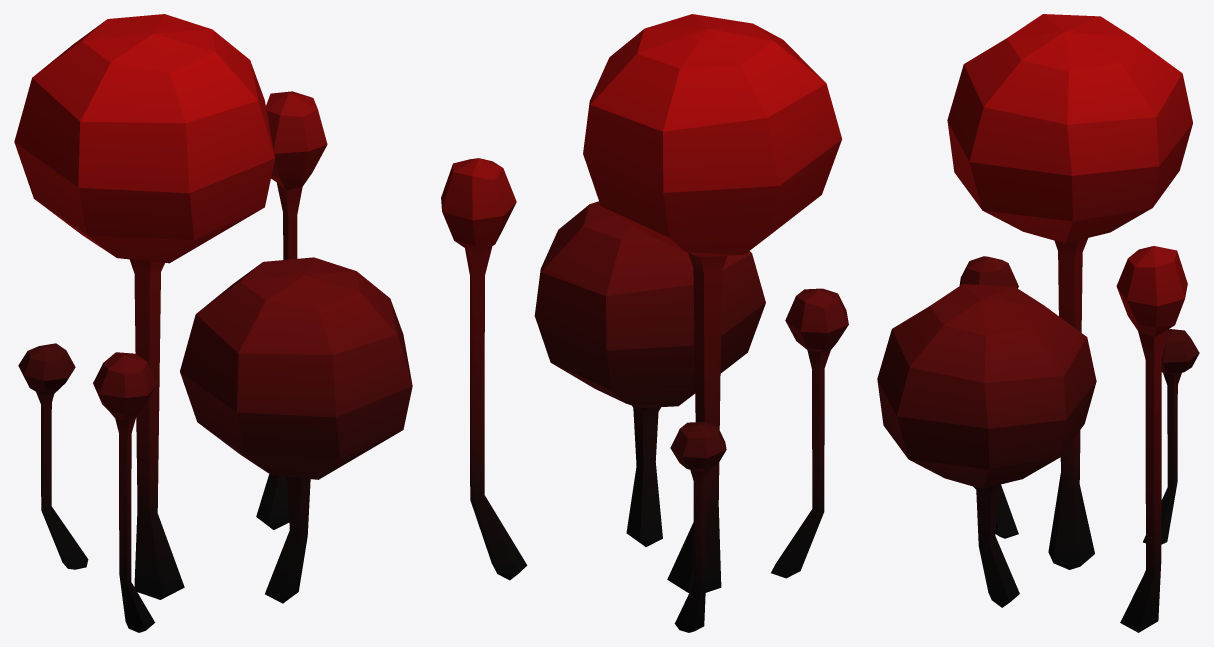
The model's file is SM_Env_Plant_Balloon_Group_01.fbx.
3 renders of one model, left to right at view 1: azimuth 30°, elevation 25°; view 2: azimuth 150°, elevation 25°; view 3: azimuth 270°, elevation 25°, orthographic. The views are drawn at different scales.
Visible parts, largest first — view 1: SM_Env_Plant_Balloon_Group_01; view 2: SM_Env_Plant_Balloon_Group_01; view 3: SM_Env_Plant_Balloon_Group_01.
Boxes of the visible parts, x1,y1,x2,y2 form: SM_Env_Plant_Balloon_Group_01: [14, 14, 412, 632]; SM_Env_Plant_Balloon_Group_01: [441, 14, 848, 632]; SM_Env_Plant_Balloon_Group_01: [877, 14, 1199, 632].
Size of the model in its own units: 156 by 262 by 143.
